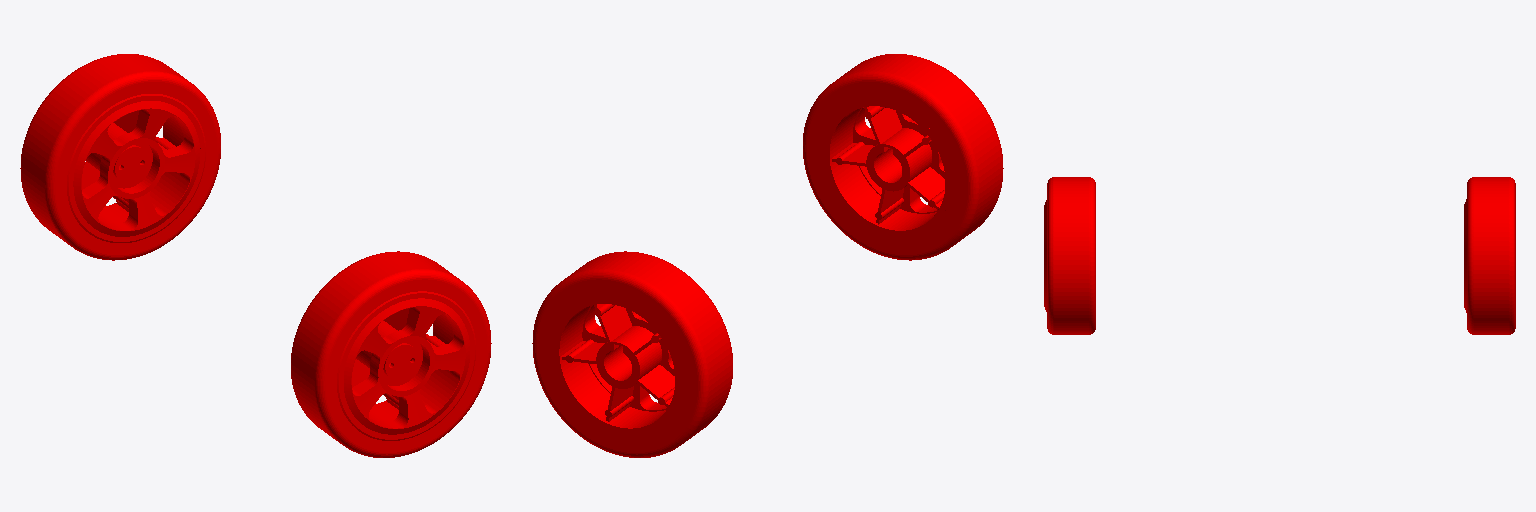
URDF robot description (EAI_Robot):
<?xml version="1.0"?>
<robot name="EAI_Robot">


<!-- Dummy link to fiz robot chassis -->
  <link name="base_link">
  </link>
  
    <joint name="chassis_joint" type="fixed">
        <parent link="base_link"/>
        <child link="chassis"/>
        <origin xyz="0.0 0.0 0.11125"/>
    </joint>

    <link name="chassis">
        <visual>
            <origin rpy="0 0 0" xyz="0 0 0"/>
            <geometry>
                <mesh filename="package://dashgo_b1/models/EAIbot_B1.stl"/>
            </geometry>
            <material name="red">
                <color rgba="1.0 0.0 0.0 1.0"/>
            </material>
        </visual>
    </link>


    <link name="wl_link">
        <visual>
            <origin rpy="0.0 0 3.1416" xyz="0 0 0"/>
            <geometry>
                <mesh filename="package://dashgo_b1/models/Wheel.stl"/>
            </geometry>
            <material name="red">
                <color rgba="1.0 0.0 0.0 1.0"/>
            </material>
        </visual>
    </link>


    <link name="wr_link">
        <visual>
            <origin rpy="0 0 3.1416" xyz="0 0 0"/>
            <geometry>
                <mesh filename="package://dashgo_b1/models/Wheel.stl"/>
            </geometry>
            <material name="red">
                <color rgba="1.0 0.0 0.0 1.0"/>
            </material>
        </visual>
    </link>


    <joint name="rightWheel" type="continuous">
        <parent link="chassis"/> 
        <child link="wr_link"/> 
        <origin xyz="0.110026 -0.165 -0.04925" rpy="0 0 0"/>
        <axis xyz="0 1 0"/> 
    </joint>


    <joint name="leftWheel" type="continuous">
        <parent link="chassis"/>
        <child link="wl_link"/>
        <origin xyz="0.110026 0.165 -0.04925" rpy="0 0 0"/>
        <axis xyz="0 1 0"/>
    </joint>


</robot>

--- Facts derived from the render (not from the file) ---
3 views of the same robot in one strip: view 1: azimuth 30°, elevation 25°; view 2: azimuth 150°, elevation 25°; view 3: azimuth 270°, elevation 25° (orthographic).
Model EAI_Robot with 4 links and 3 joints (2 continuous, 1 fixed), rooted at base_link, posed all joints at 0.
Visible links, largest first — view 1: wr_link, wl_link; view 2: wr_link, wl_link; view 3: wl_link, wr_link.
Boxes of the visible links, <box> form: wr_link: <box>291,251,491,457</box>; wl_link: <box>20,54,220,260</box>; wr_link: <box>803,54,1003,260</box>; wl_link: <box>532,251,732,457</box>; wl_link: <box>1464,177,1515,334</box>; wr_link: <box>1044,177,1095,334</box>.
Size in the robot's own frame: 0.124 by 0.3704 by 0.124 metres.
2 mesh visuals loaded from 2 distinct referenced files (1 binary STL); not drawn: 1 (reference not matched to a file when rendering).